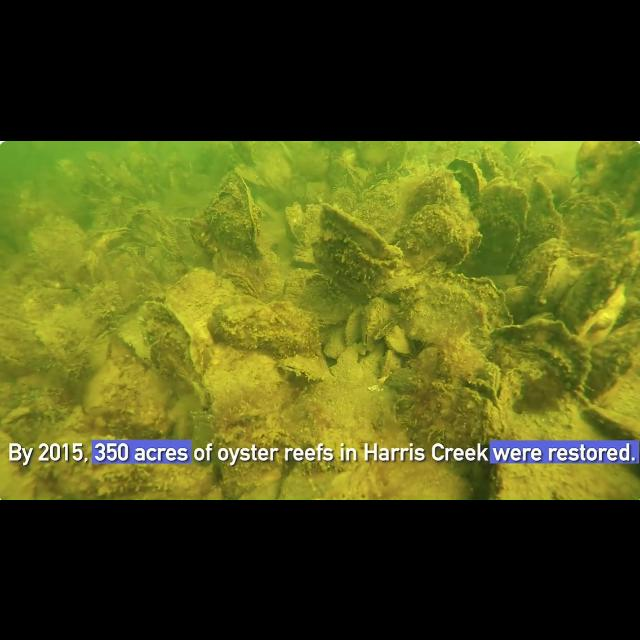Oyster-Closed: (385, 346, 503, 461), (399, 271, 511, 380), (33, 439, 221, 498), (313, 204, 414, 297), (493, 316, 590, 403), (203, 343, 293, 423), (138, 300, 205, 399), (395, 204, 480, 268), (204, 170, 261, 258), (576, 140, 639, 214), (165, 268, 235, 325), (101, 241, 164, 304), (208, 295, 271, 348), (398, 169, 469, 215), (29, 216, 86, 273), (579, 284, 626, 344), (476, 213, 520, 275), (479, 178, 529, 230), (518, 238, 573, 284), (535, 256, 580, 311), (84, 359, 123, 413), (600, 229, 639, 283), (584, 401, 639, 439), (361, 296, 399, 349), (146, 231, 188, 276), (128, 206, 174, 245), (448, 158, 486, 202), (505, 285, 534, 323), (220, 270, 259, 298), (59, 346, 89, 380), (464, 465, 494, 498), (90, 334, 111, 370), (385, 325, 411, 353), (345, 305, 363, 345), (324, 326, 346, 358), (1, 405, 31, 424)
Oyster-Open: (278, 354, 330, 380), (89, 226, 131, 254), (285, 446, 315, 460)
